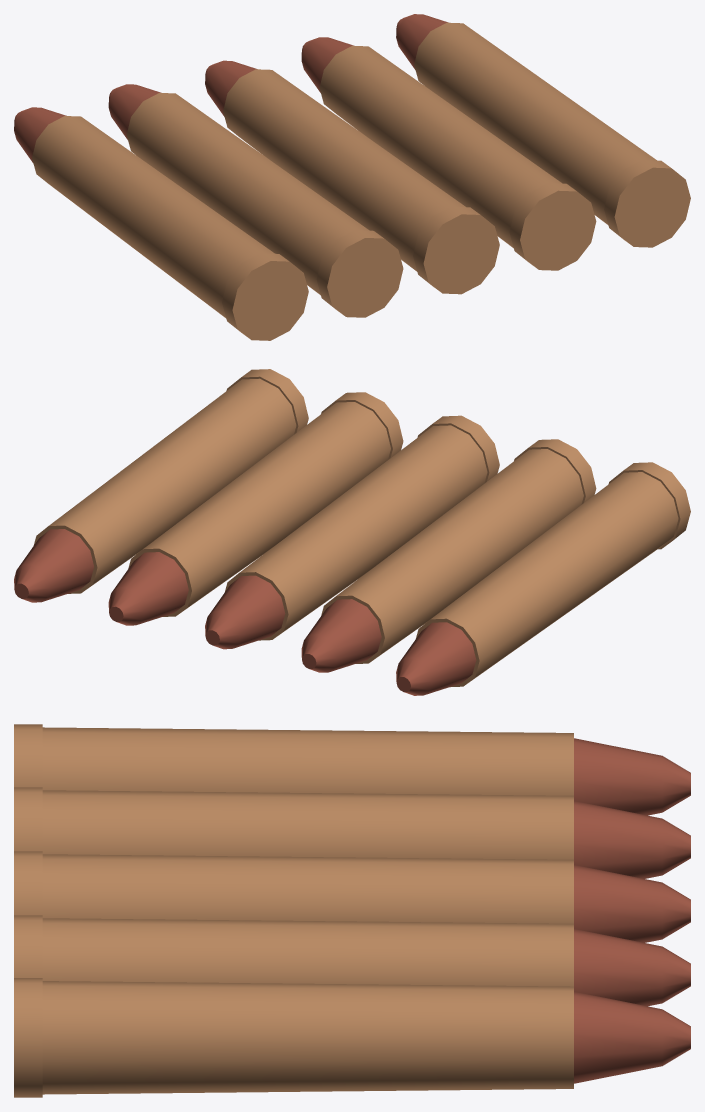
Rendered from turret_ammo_layer.glb.
3 views of the same model, one above another, from view 1: azimuth 30°, elevation 25°; view 2: azimuth 150°, elevation 25°; view 3: azimuth 270°, elevation 25° (orthographic). The views are drawn at different scales.
Visible parts, largest first — view 1: turret_ammo_layer; view 2: turret_ammo_layer; view 3: turret_ammo_layer.
Boxes of the visible parts, x1,y1,x2,y2 form: turret_ammo_layer: (14,14,690,340); turret_ammo_layer: (14,369,690,695); turret_ammo_layer: (14,724,690,1097).
Size of the model in its own units: 0.252 by 0.042 by 0.237.
